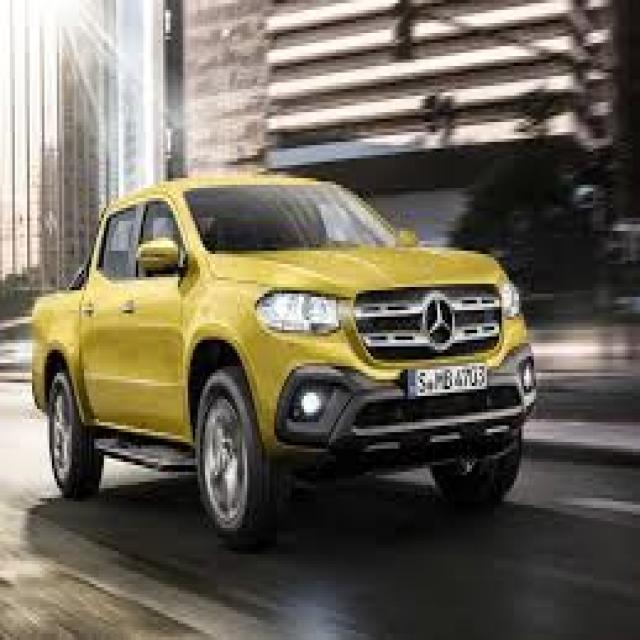Pickup Trucks: (32, 175, 539, 548)
